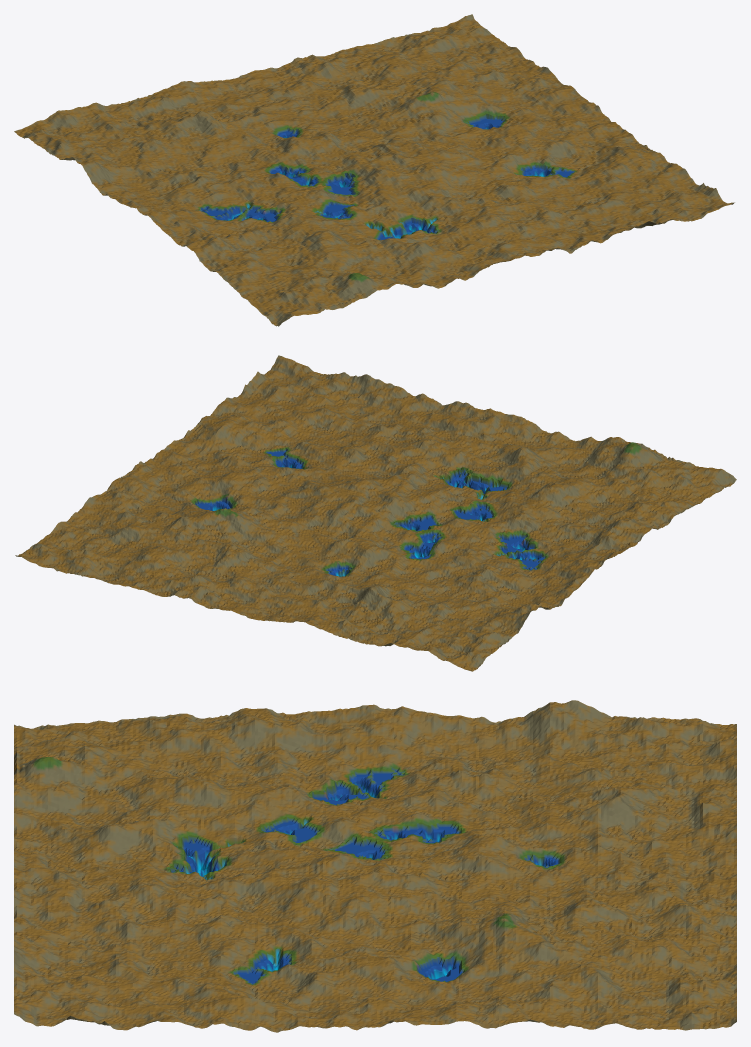
File: terrain_FOREST.obj
The picture shows the model from 3 angles, top to bottom: view 1: azimuth 30°, elevation 25°; view 2: azimuth 150°, elevation 25°; view 3: azimuth 270°, elevation 25°; orthographic projection. The views are drawn at different scales.
Visible parts, largest first — view 1: FOREST; view 2: FOREST; view 3: FOREST.
Part boxes in pixels (x1,y1,x2,y2): FOREST: (14, 14, 734, 326); FOREST: (15, 355, 736, 671); FOREST: (14, 700, 736, 1032).
Bounding box in the file's own units: 255 × 24.81 × 255.
Materials: 1 (1 with a texture image).
